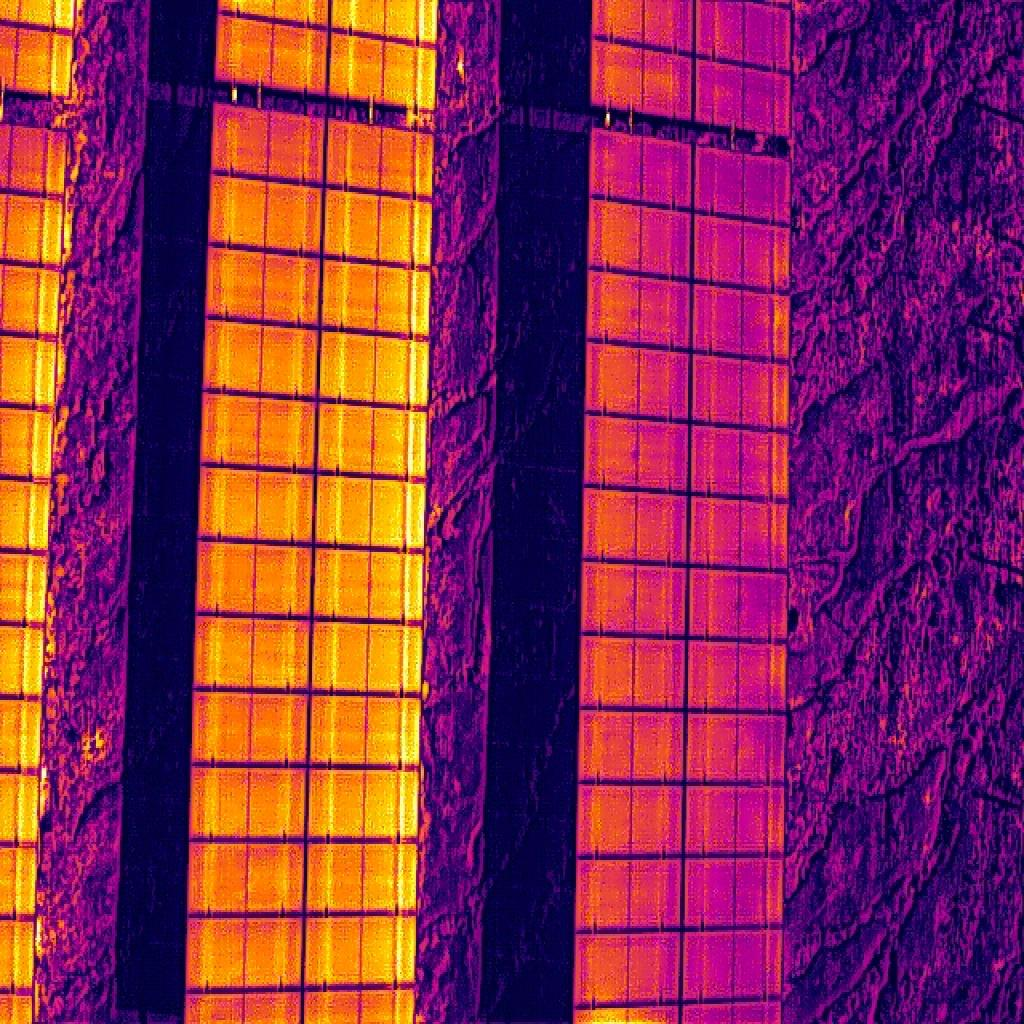panel: (207, 247, 323, 325), (324, 122, 434, 199), (577, 784, 688, 855), (321, 333, 429, 405), (318, 475, 424, 548), (689, 567, 791, 640)
